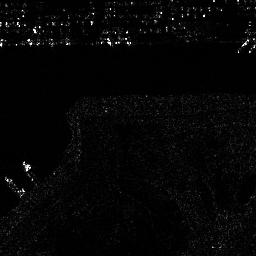ship: (22, 158, 40, 185), (3, 176, 26, 195)
